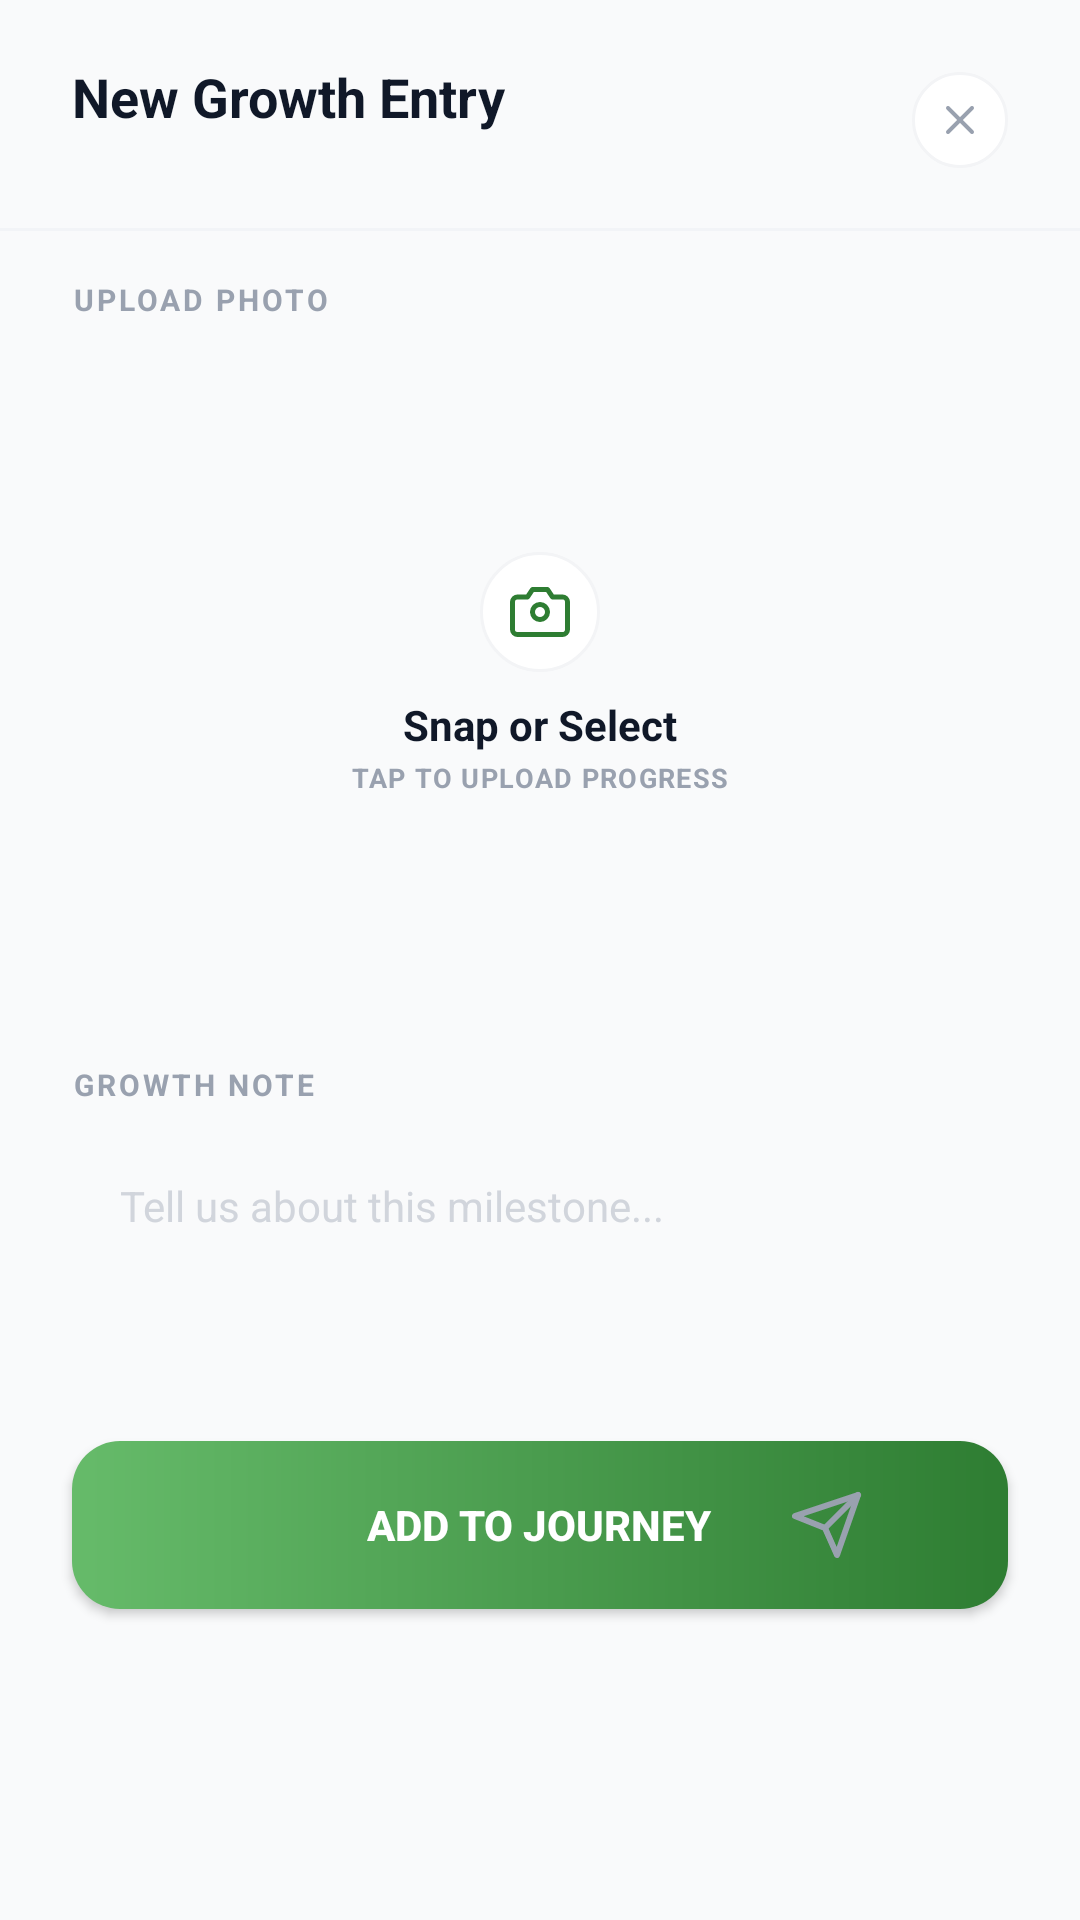

Named icons in this screenshot (1080×1920) and their centers, [x,y]:
camera: [540,612]
close: [960,120]
